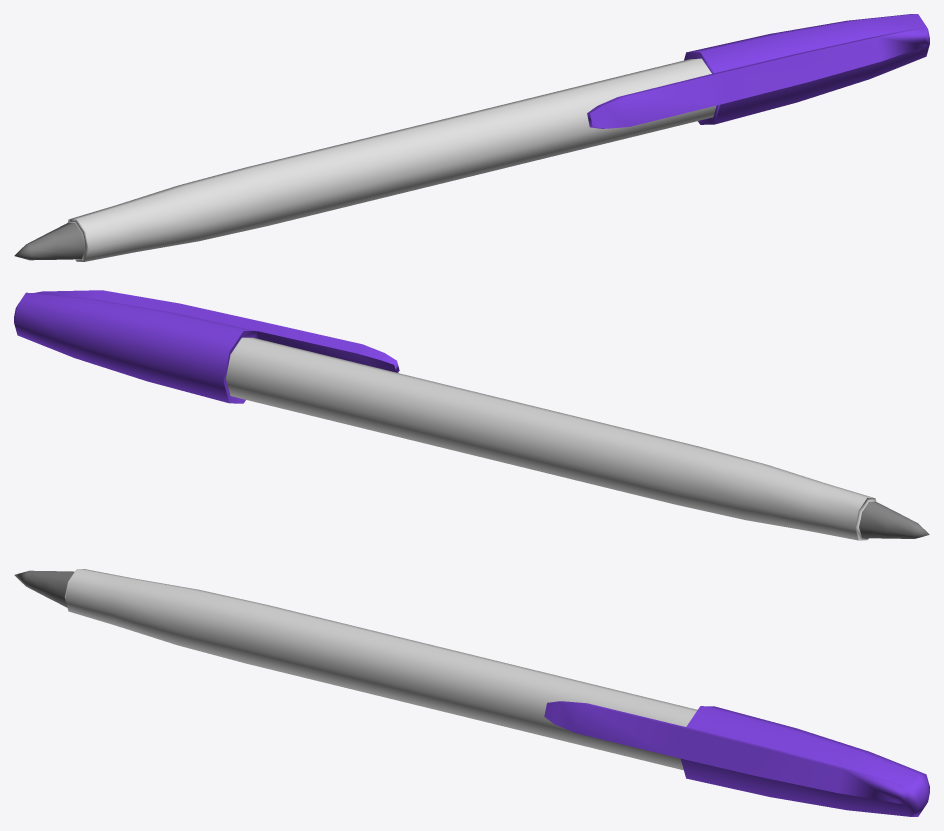
File: pen 1.fbx
The picture shows the model from 3 angles, top to bottom: view 1: azimuth 30°, elevation 25°; view 2: azimuth 150°, elevation 25°; view 3: azimuth 330°, elevation 25°; orthographic projection.
Visible parts, largest first — view 1: pen; view 2: pen; view 3: pen.
Boxes of the visible parts, left/top/right/bottom form: pen: left=14, top=14, right=929, bottom=261; pen: left=14, top=290, right=929, bottom=540; pen: left=14, top=569, right=929, bottom=816.
Size of the model in its own units: 22.23 by 1.69 by 2.
